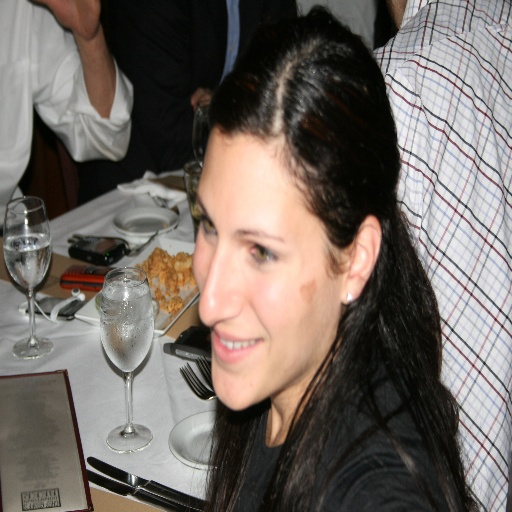hand: (56, 8, 110, 61), (190, 84, 214, 112)
